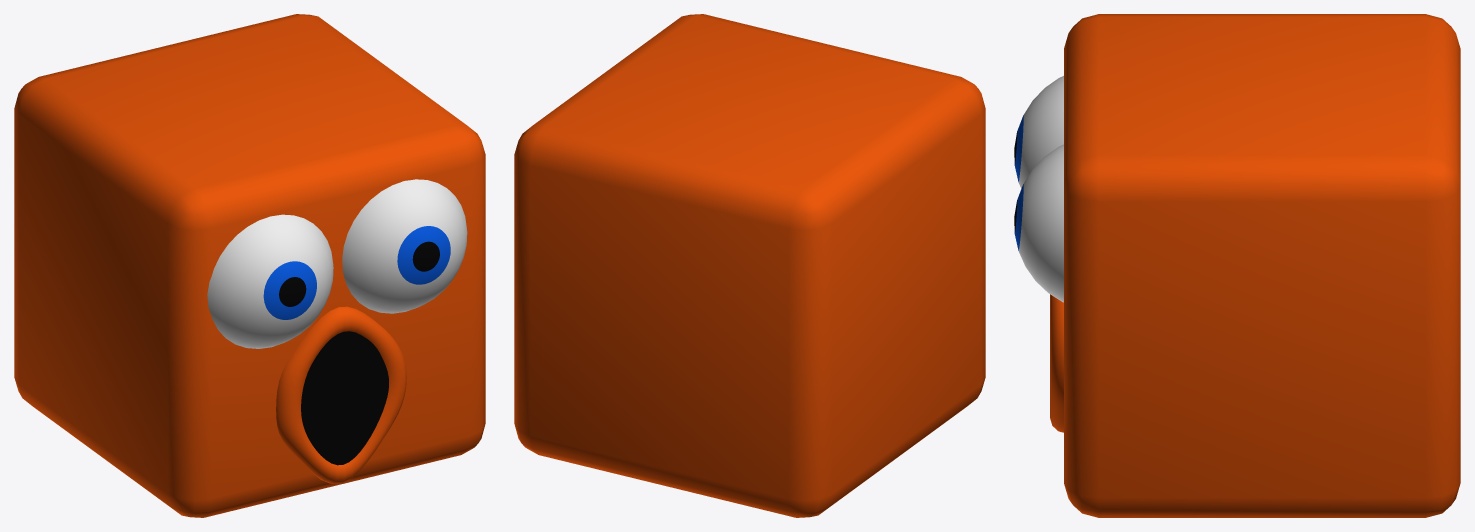
File: POG (1).fbx
The picture shows the model from 3 angles, left to right: view 1: azimuth 30°, elevation 25°; view 2: azimuth 150°, elevation 25°; view 3: azimuth 270°, elevation 25°; orthographic projection. The views are drawn at different scales.
Parts seen in each view (by area): view 1: Cube, Sphere.002, Sphere.001, Circle, Torus; view 2: Cube; view 3: Cube, Sphere.001, Sphere.002, Torus.
Boxes of the visible parts, bbox=[...] form: Cube: bbox=[14, 14, 485, 517]; Sphere.002: bbox=[207, 214, 333, 348]; Sphere.001: bbox=[342, 179, 467, 313]; Circle: bbox=[301, 331, 388, 465]; Torus: bbox=[276, 306, 406, 483]; Cube: bbox=[514, 14, 985, 517]; Cube: bbox=[1064, 14, 1460, 517]; Sphere.001: bbox=[1014, 144, 1063, 302]; Sphere.002: bbox=[1014, 76, 1063, 188]; Torus: bbox=[1050, 294, 1063, 432].
Size of the model in its own units: 200 by 200 by 225.
